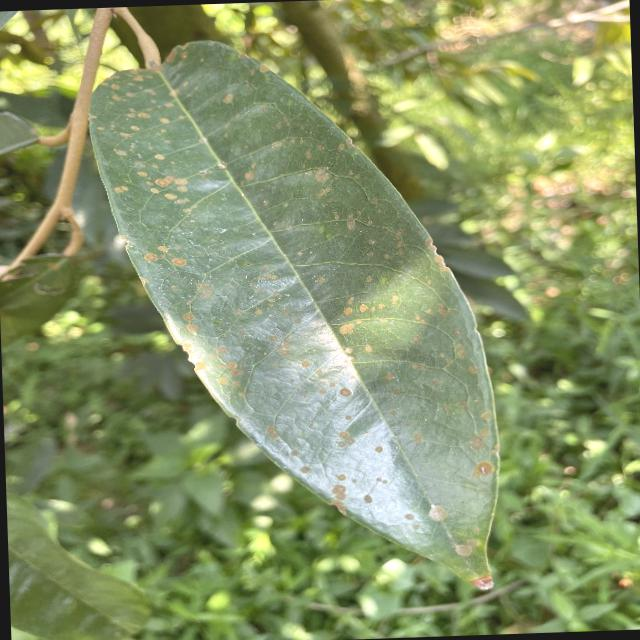Algal Leaf Spot: (75, 23, 520, 623)
